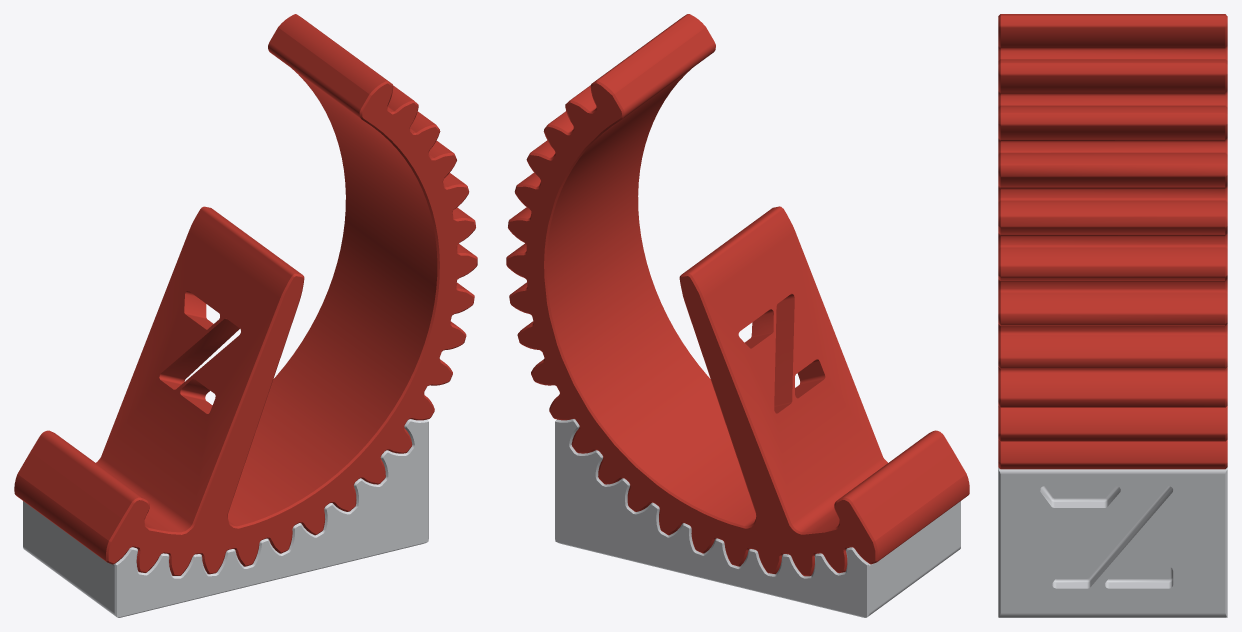
The picture shows the model from 3 angles, left to right: view 1: azimuth 30°, elevation 25°; view 2: azimuth 150°, elevation 25°; view 3: azimuth 270°, elevation 25°; orthographic projection. The views are drawn at different scales.
Visible parts, largest first — view 1: NAUO2, NAUO1; view 2: NAUO2, NAUO1; view 3: NAUO2, NAUO1.
Part boxes in pixels (bbox=[...]): NAUO2: bbox=[14, 14, 477, 575]; NAUO1: bbox=[23, 419, 428, 617]; NAUO2: bbox=[506, 14, 969, 576]; NAUO1: bbox=[555, 419, 960, 617]; NAUO2: bbox=[998, 14, 1227, 469]; NAUO1: bbox=[998, 467, 1227, 617].
Bounding box in the file's own units: 0.092 × 0.1115 × 0.04.
